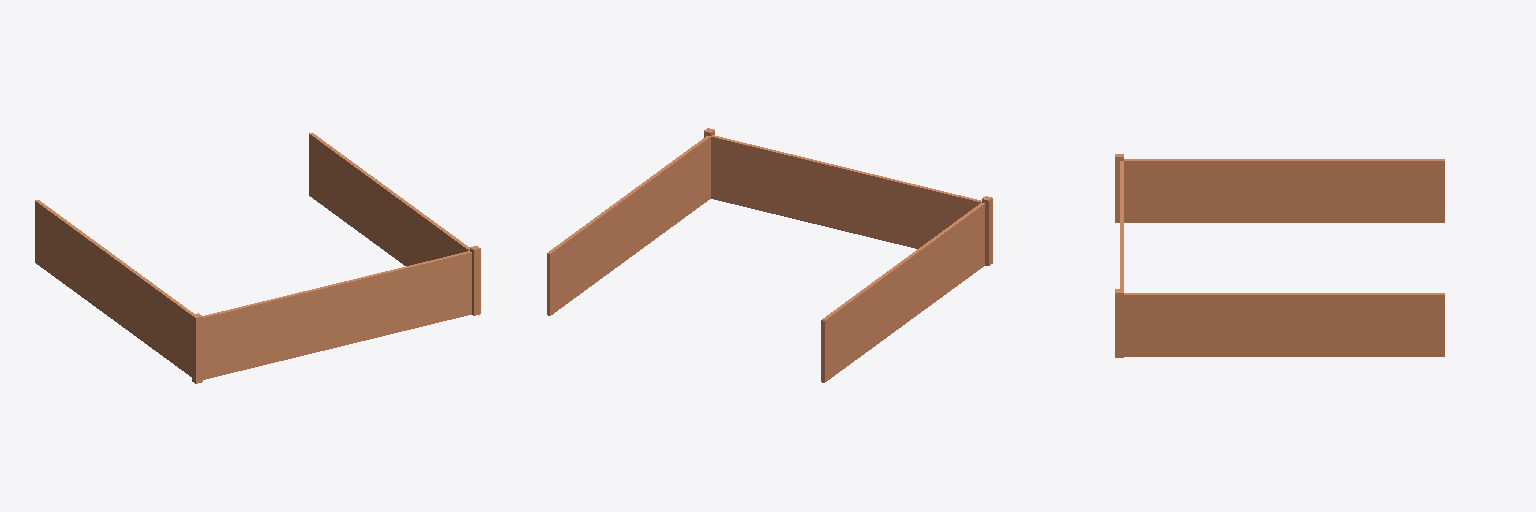
File: fence_large.obj
3 views of the same model, side by side, from view 1: azimuth 30°, elevation 25°; view 2: azimuth 150°, elevation 25°; view 3: azimuth 270°, elevation 25° (orthographic).
Visible parts, largest first — view 1: fence_large; view 2: fence_large; view 3: fence_large.
Part boxes in pixels (x1,y1,x2,y2): fence_large: (35, 133, 480, 383); fence_large: (547, 128, 992, 382); fence_large: (1115, 154, 1444, 357).
Bounding box in the file's own units: 1.2 × 0.265 × 1.2.